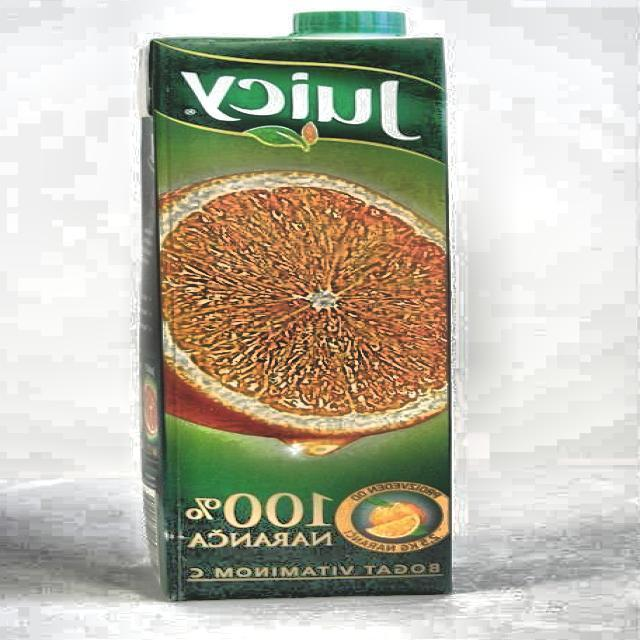cardboard: (138, 12, 454, 600)
